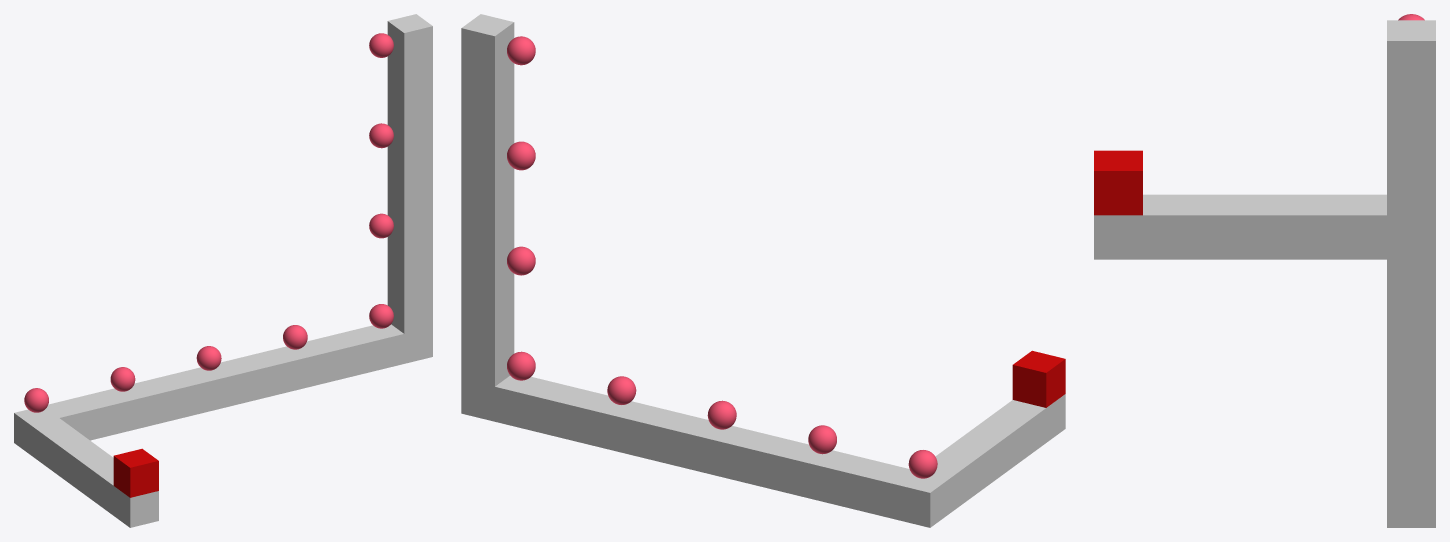
File: stage2.glb
3 views of the same model, side by side, from view 1: azimuth 30°, elevation 25°; view 2: azimuth 150°, elevation 25°; view 3: azimuth 270°, elevation 25° (orthographic). The views are drawn at different scales.
Visible parts, largest first — view 1: corePart, cube__76_, cube__60_, cube__66_, cube__72_, cube__81_, cube__62_, cube__68_, cube__74_, cube__52_, cube__80_, cube__63_ (+27 smaller); view 2: corePart, cube__58_, cube__76_, cube__72_, cube__60_, cube__66_, cube__68_, cube__62_, cube__74_, cube__50_, cube__63_, cube__52_ (+19 smaller); view 3: cube__54_, cube__77_, cube__59_, corePart, cube__55_, cube__76_, cube__78_, cube__48_, cube__49_, cube__60_, cube__62_, cube__64_ (+6 smaller).
Part boxes in pixels (x1,y1,x2,y2): corePart: [113, 448, 158, 497]; cube__76_: [387, 14, 432, 62]; cube__60_: [387, 262, 432, 303]; cube__66_: [387, 172, 432, 213]; cube__72_: [387, 81, 432, 123]; cube__81_: [113, 486, 158, 527]; cube__62_: [387, 234, 432, 273]; cube__68_: [387, 144, 432, 183]; cube__74_: [387, 54, 432, 93]; cube__52_: [244, 350, 289, 398]; cube__80_: [330, 329, 375, 377]; cube__63_: [132, 378, 174, 426]; corePart: [1012, 350, 1065, 407]; cube__58_: [896, 474, 949, 527]; cube__76_: [461, 14, 514, 71]; cube__72_: [461, 92, 514, 141]; cube__60_: [461, 303, 514, 351]; cube__66_: [461, 197, 514, 246]; cube__68_: [461, 165, 514, 211]; cube__62_: [461, 270, 514, 316]; cube__74_: [461, 60, 514, 106]; cube__50_: [829, 454, 882, 511]; cube__63_: [762, 438, 811, 494]; cube__52_: [629, 405, 681, 462]; cube__54_: [1289, 194, 1338, 259]; cube__77_: [1191, 194, 1240, 259]; cube__59_: [1240, 194, 1289, 259]; corePart: [1094, 150, 1142, 215]; cube__55_: [1338, 194, 1386, 259]; cube__76_: [1387, 20, 1435, 85]; cube__78_: [1143, 194, 1191, 259]; cube__48_: [1387, 483, 1435, 527]; cube__49_: [1387, 439, 1435, 483]; cube__60_: [1387, 395, 1435, 439]; cube__62_: [1387, 351, 1435, 395]; cube__64_: [1387, 306, 1435, 350].
Size of the model in its own units: 14 by 11 by 7.
